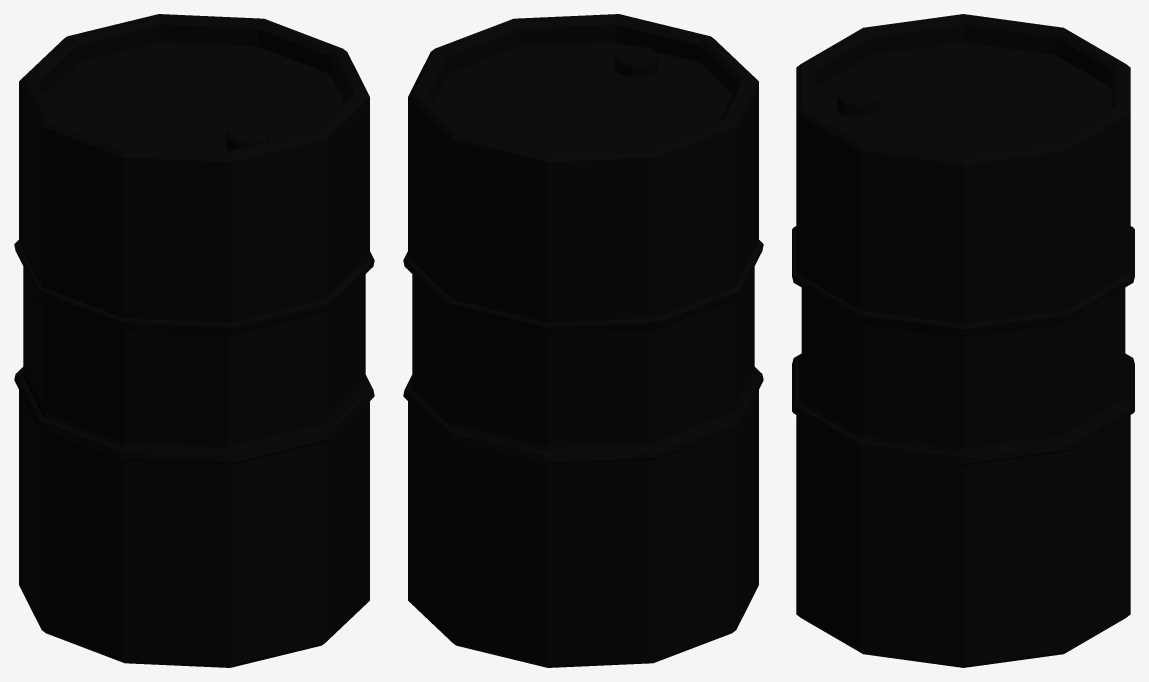
Rendered from Barrel_01.fbx.
3 views of the same model, side by side, from view 1: azimuth 30°, elevation 25°; view 2: azimuth 150°, elevation 25°; view 3: azimuth 270°, elevation 25° (orthographic).
Parts seen in each view (by area): view 1: Barrel_01; view 2: Barrel_01; view 3: Barrel_01.
Boxes of the visible parts, x1,y1,x2,y2 form: Barrel_01: (14, 14, 374, 667); Barrel_01: (403, 14, 763, 667); Barrel_01: (792, 14, 1134, 667).
Size of the model in its own units: 231 by 361 by 220.
